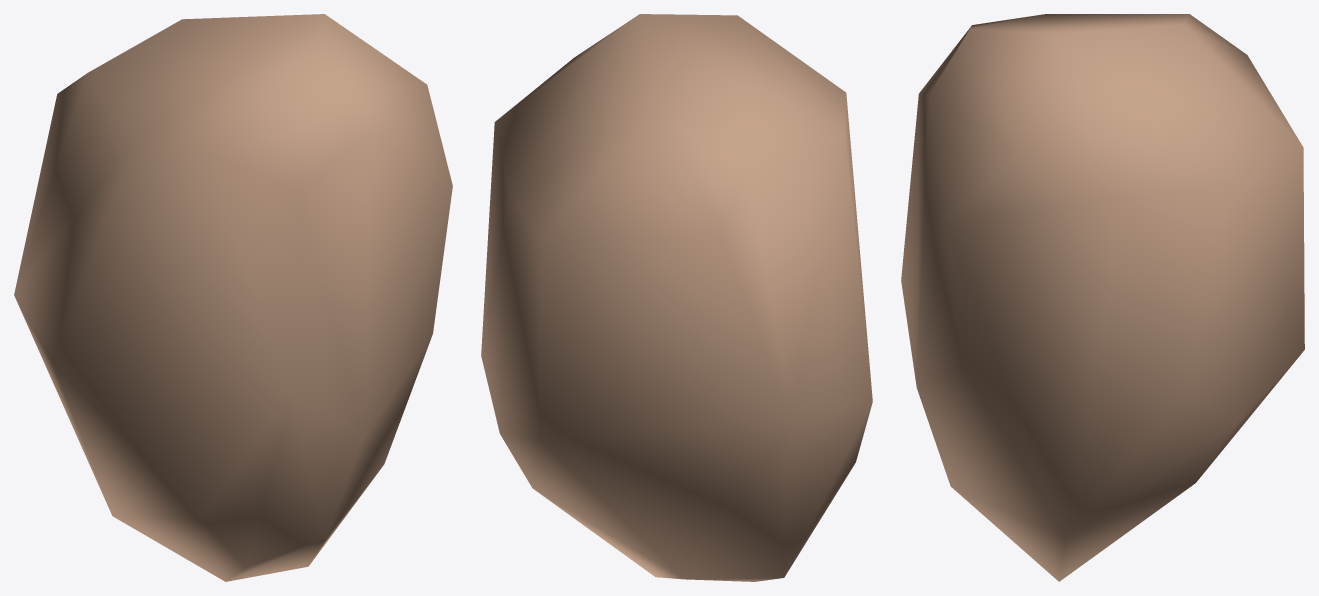
File: ZMOBA_Rock_B_4.FBX
The picture shows the model from 3 angles, left to right: view 1: azimuth 30°, elevation 25°; view 2: azimuth 150°, elevation 25°; view 3: azimuth 270°, elevation 25°; orthographic projection.
Parts seen in each view (by area): view 1: ZMOBA_Rock_B_4; view 2: ZMOBA_Rock_B_4; view 3: ZMOBA_Rock_B_4.
Part boxes in pixels (left/top/right/bottom): ZMOBA_Rock_B_4: left=14, top=14, right=452, bottom=581; ZMOBA_Rock_B_4: left=481, top=14, right=872, bottom=581; ZMOBA_Rock_B_4: left=901, top=14, right=1304, bottom=581.
Size of the model in its own units: 162 by 236 by 156.
